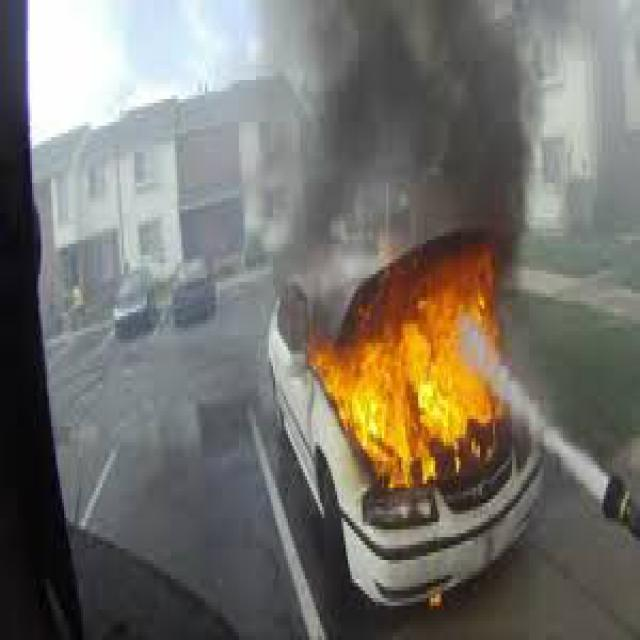Fire: (303, 228, 547, 512)
Smoke: (263, 0, 540, 265)
